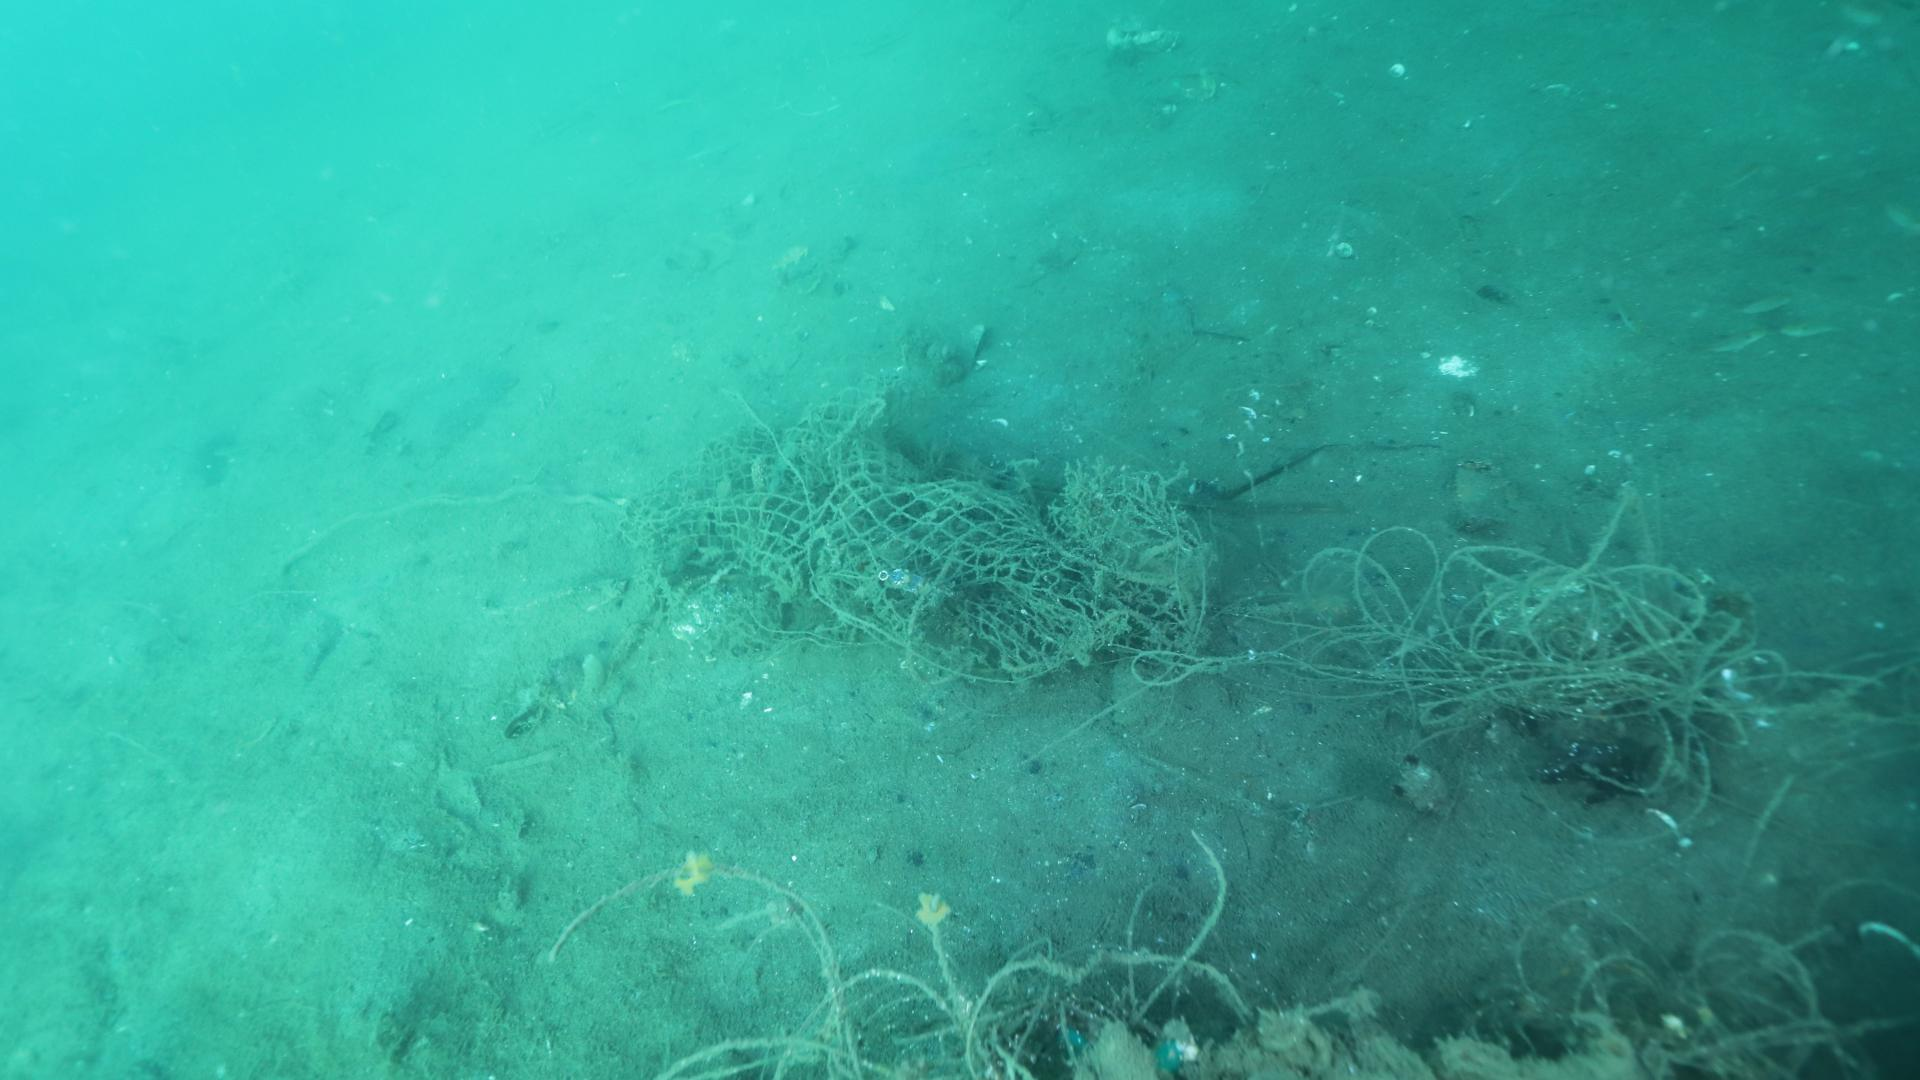fish net: (645, 382, 1199, 676)
